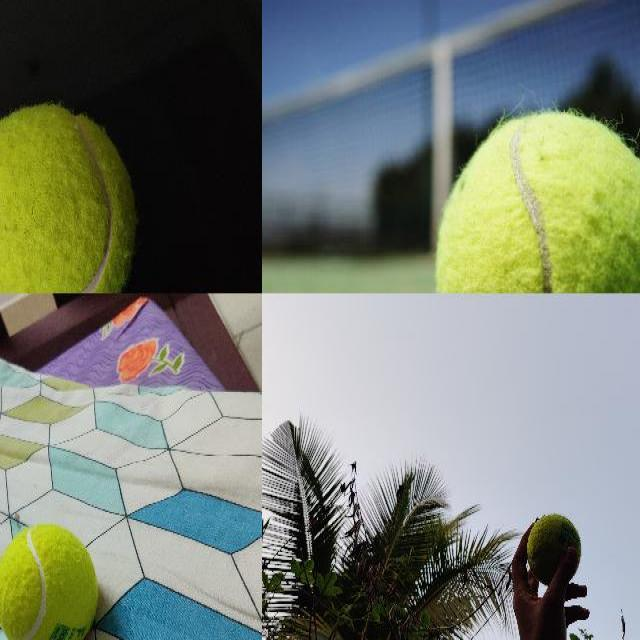tennis-ball: (434, 111, 639, 293), (0, 103, 137, 293), (0, 524, 98, 638), (525, 512, 582, 586)
